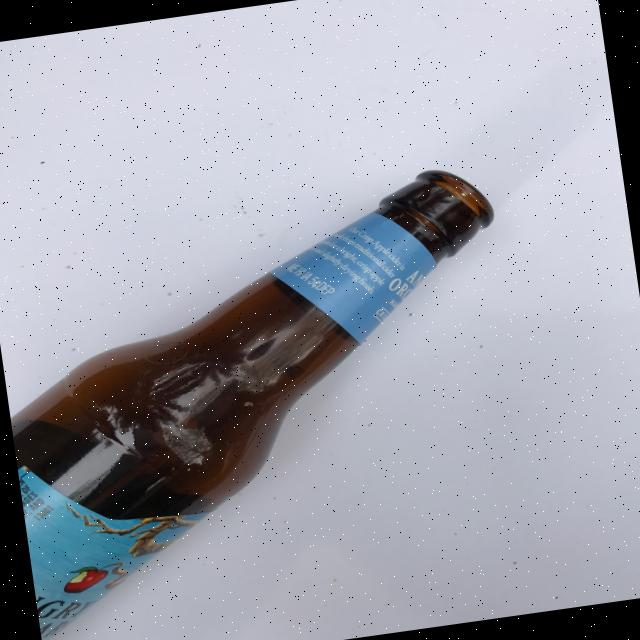glass: (0, 160, 545, 640)
